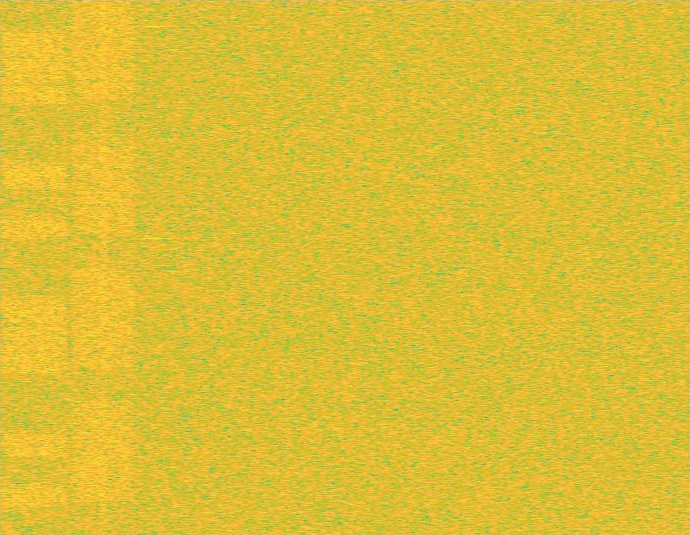5G: (69, 0, 138, 534)
DSSS: (99, 0, 108, 534)
LTE: (0, 0, 69, 534)
Radar: (147, 0, 161, 534)
